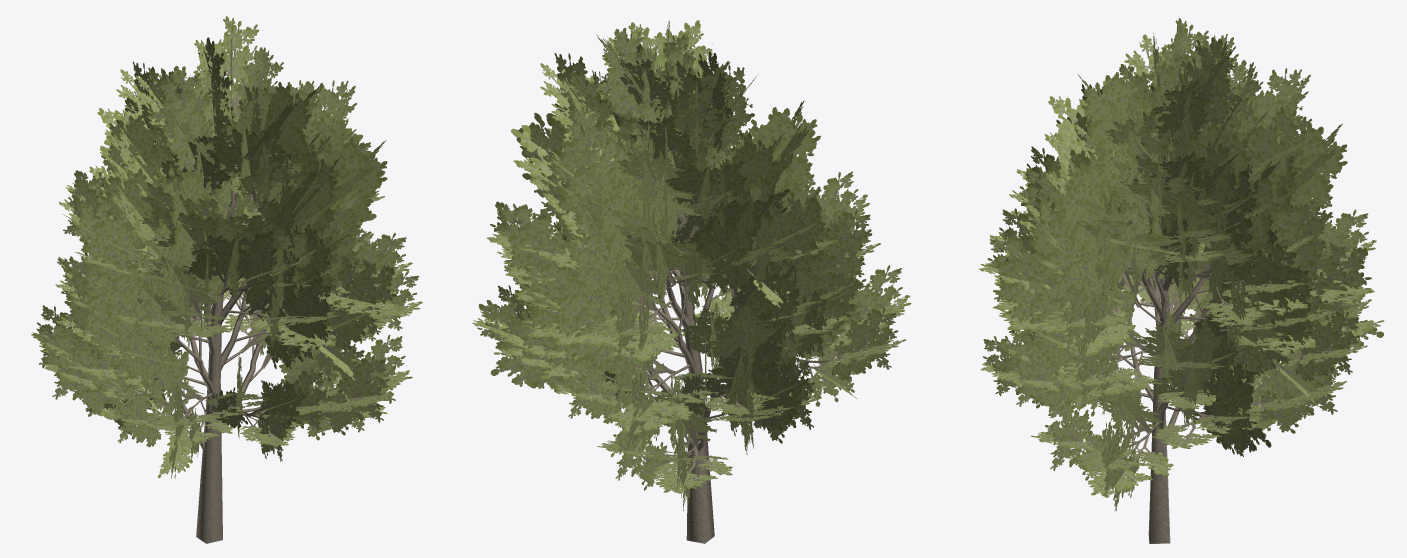
Rendered from SorbusAria.glb.
The picture shows the model from 3 angles, left to right: view 1: azimuth 30°, elevation 25°; view 2: azimuth 150°, elevation 25°; view 3: azimuth 270°, elevation 25°; orthographic projection. The views are drawn at different scales.
Parts seen in each view (by area): view 1: Common_Whitebeam__Realistic_LOD3; view 2: Common_Whitebeam__Realistic_LOD3; view 3: Common_Whitebeam__Realistic_LOD3.
Part boxes in pixels (x1=…): Common_Whitebeam__Realistic_LOD3: x1=31, y1=16, x2=422, y2=543; Common_Whitebeam__Realistic_LOD3: x1=472, y1=20, x2=911, y2=543; Common_Whitebeam__Realistic_LOD3: x1=979, y1=18, x2=1384, y2=543.
Size of the model in its own units: 6.64 by 9.06 by 6.67.
Materials: 1 (1 with a texture image).
